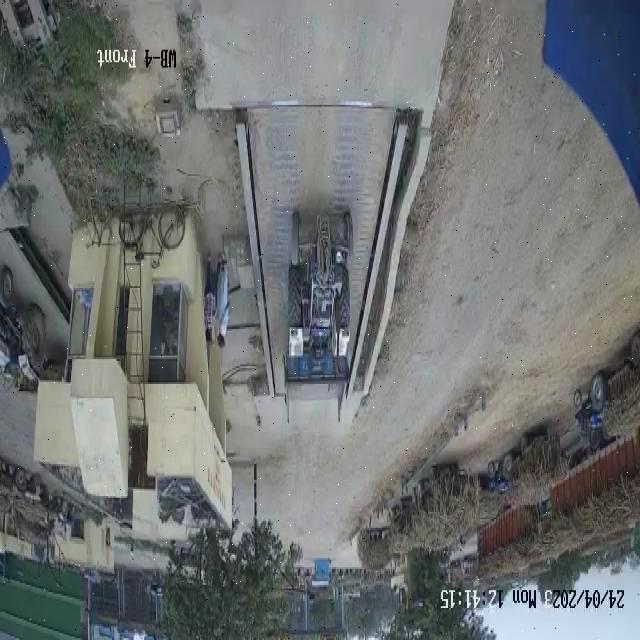Tratores - v5 YOLO V8L 2024-11-13: (280, 205, 354, 354), (0, 260, 45, 390), (568, 378, 608, 436), (484, 454, 517, 496)
